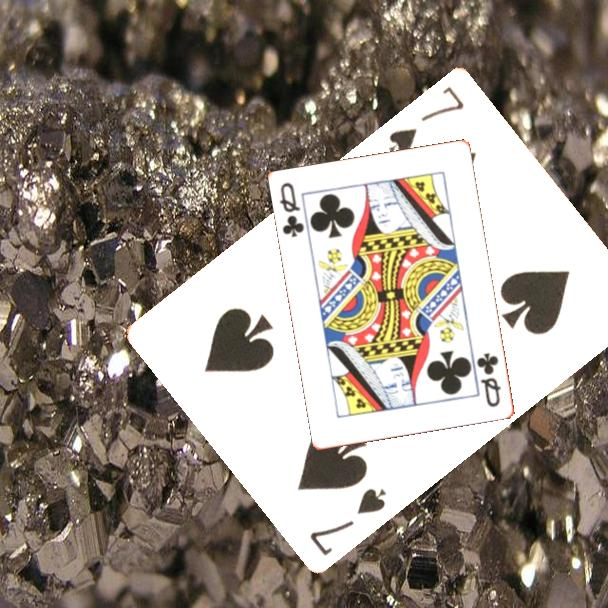c12: (277, 179, 308, 241), (473, 350, 504, 410)
s07: (306, 483, 390, 558), (385, 82, 468, 156)
